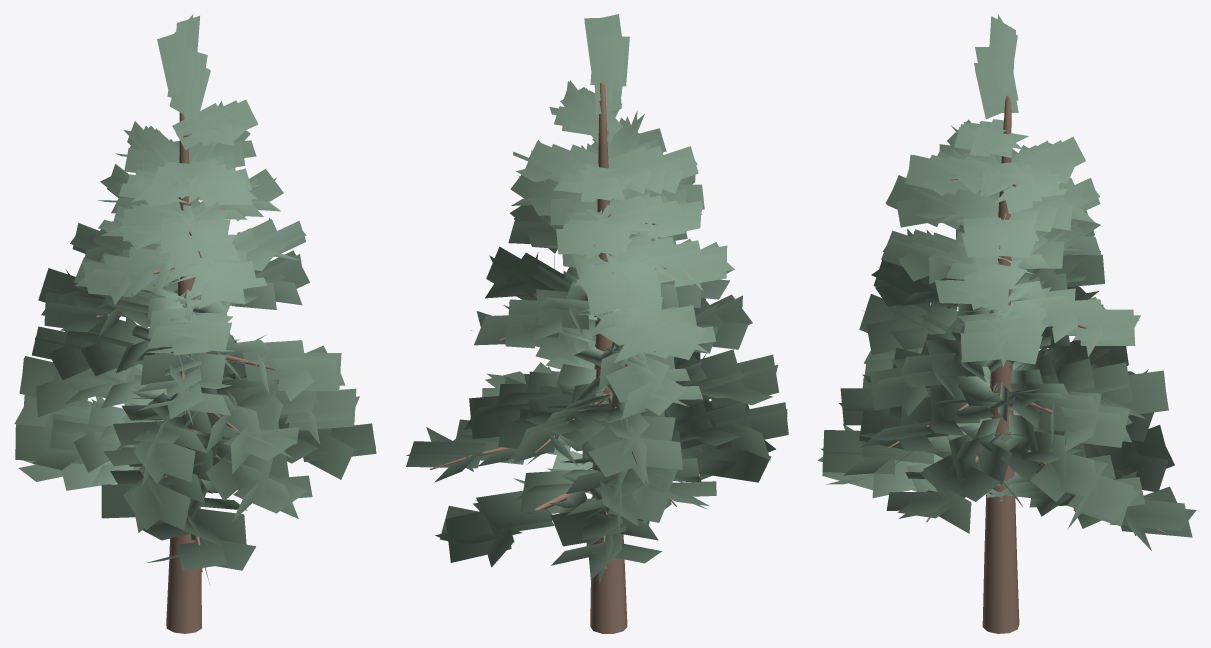
Rendered from pine.glb.
3 views of the same model, side by side, from view 1: azimuth 30°, elevation 25°; view 2: azimuth 150°, elevation 25°; view 3: azimuth 270°, elevation 25° (orthographic).
Visible parts, largest first — view 1: Pine; view 2: Pine; view 3: Pine.
Boxes of the visible parts, bbox=[...] form: Pine: bbox=[14, 14, 376, 633]; Pine: bbox=[406, 14, 788, 633]; Pine: bbox=[817, 14, 1196, 633].
Bounding box in the file's own units: 3.62 × 7.22 × 4.09.
